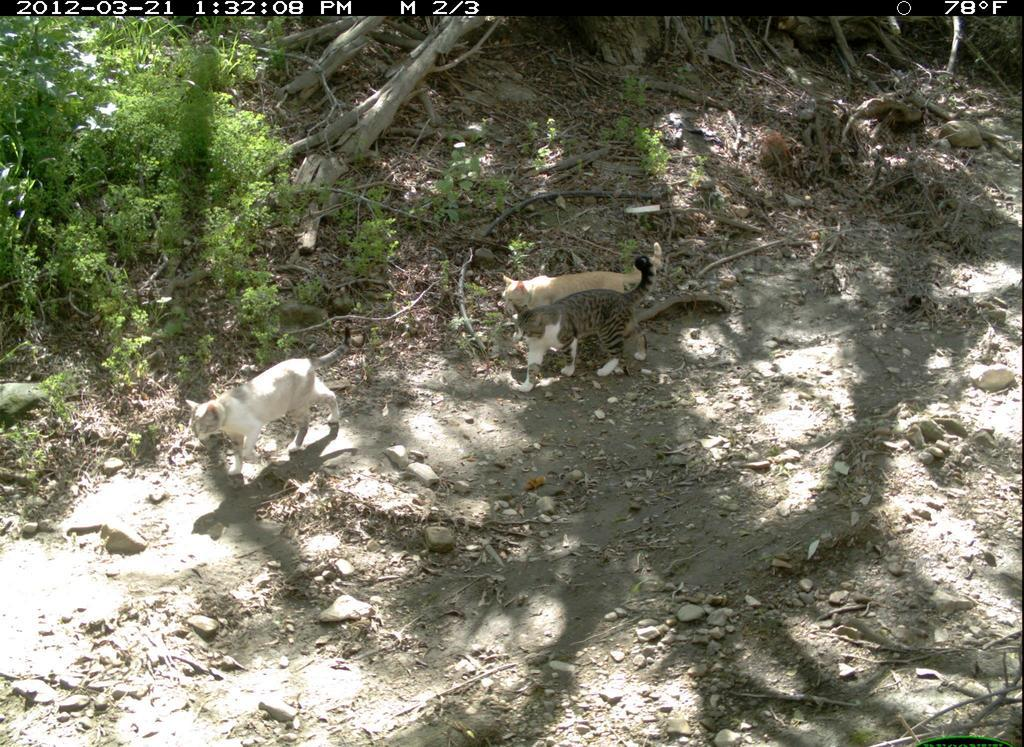cat: (185, 322, 359, 491), (504, 255, 662, 402), (493, 248, 667, 345)
